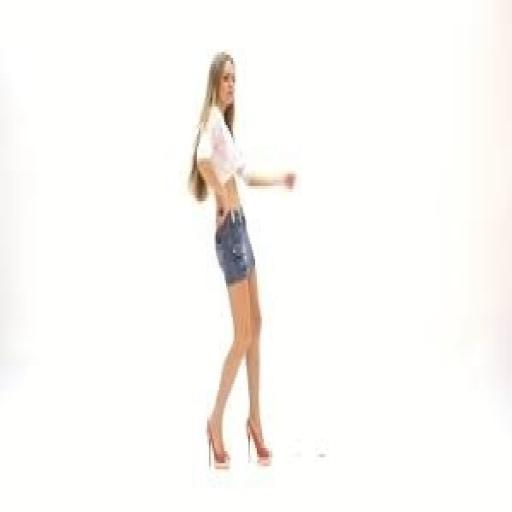dancing: (185, 49, 298, 472)
